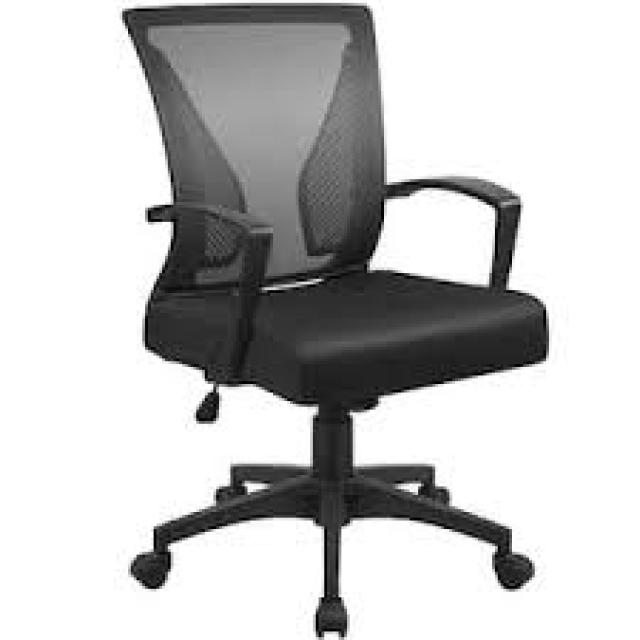chair: (32, 0, 578, 640)
